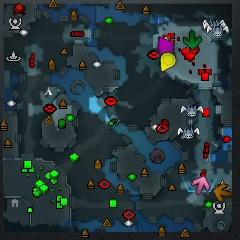p3: (158, 37, 175, 55)
p4: (161, 53, 177, 72)
x1: (192, 178, 210, 195)
x4: (183, 29, 202, 49)
x5: (214, 183, 232, 201)
